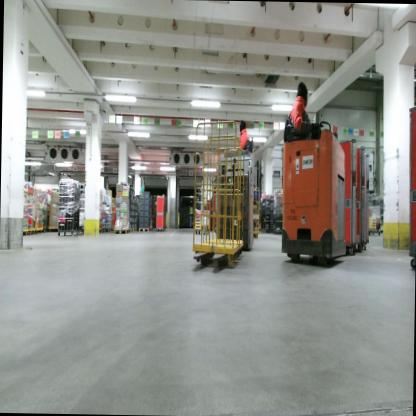pallet: (114, 225, 130, 235), (137, 225, 152, 232), (106, 226, 112, 233), (133, 226, 138, 233), (130, 226, 134, 234)
pallet_truck: (282, 112, 360, 271), (186, 132, 259, 268)
